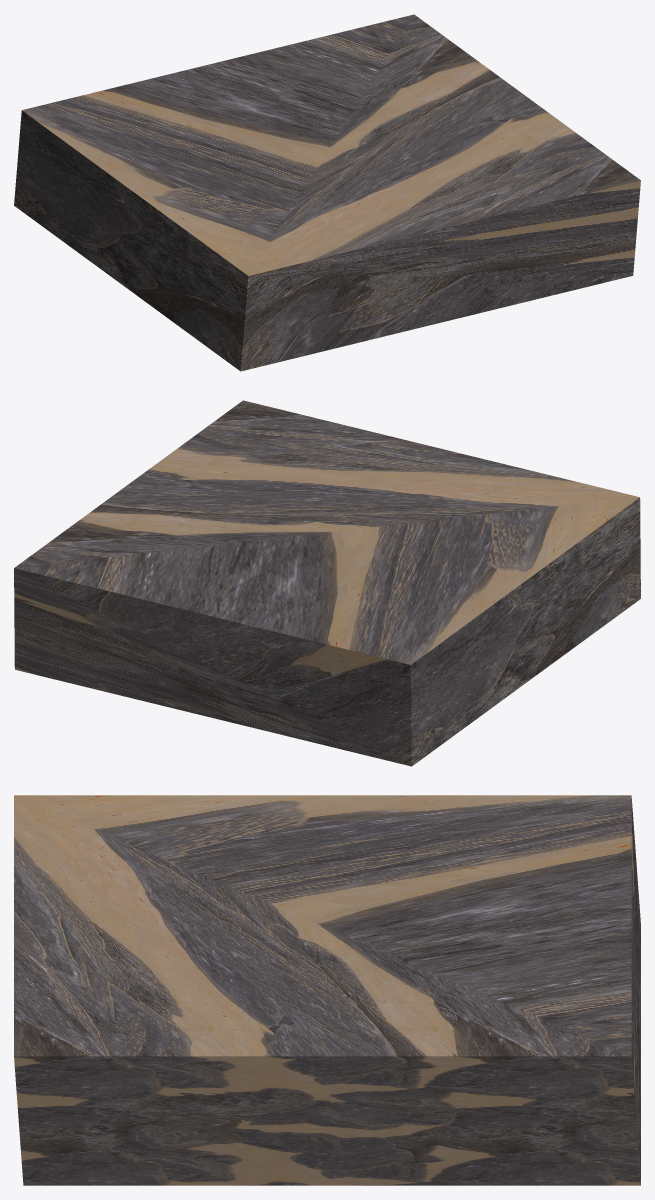
Rendered from track_import.glb.
The picture shows the model from 3 angles, top to bottom: view 1: azimuth 30°, elevation 25°; view 2: azimuth 150°, elevation 25°; view 3: azimuth 270°, elevation 25°; orthographic projection. The views are drawn at different scales.
Visible parts, largest first — view 1: Cube; view 2: Cube; view 3: Cube.
Part boxes in pixels (bbox=[...]): Cube: bbox=[14, 14, 640, 371]; Cube: bbox=[14, 400, 640, 766]; Cube: bbox=[14, 795, 640, 1185].
Size of the model in its own units: 2.02 by 0.4717 by 2.03.
Materials: 1 (1 with a texture image).
